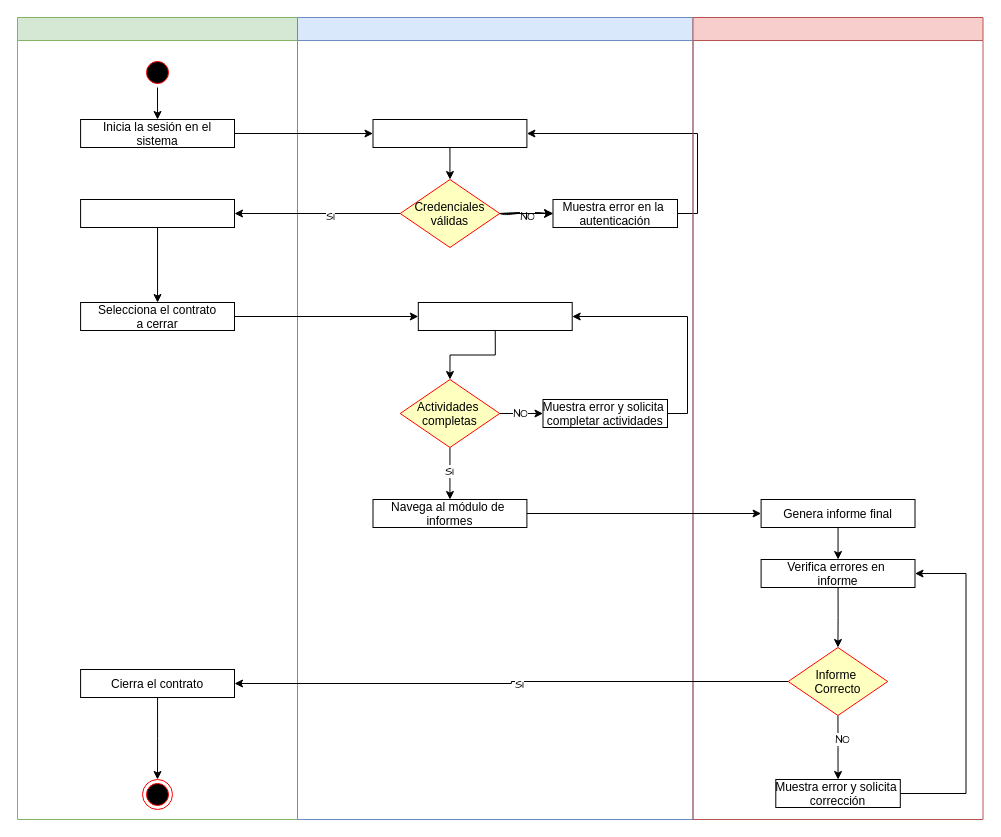
The diagram is 1001 pixels wide and 837 high, and some of its shapes have lost their labels. The box of each missing label's shape, as (x1, y1, x2, y2) in pixels:
Administrador: (16, 16, 298, 820)
Módulo de contratos: (296, 16, 693, 820)
Módulo de informes: (692, 16, 983, 820)
Navega al módulo de contratos: (80, 198, 234, 228)
Verifica las actividades completas: (417, 302, 572, 330)
Verifica las credenciales: (372, 118, 527, 148)
